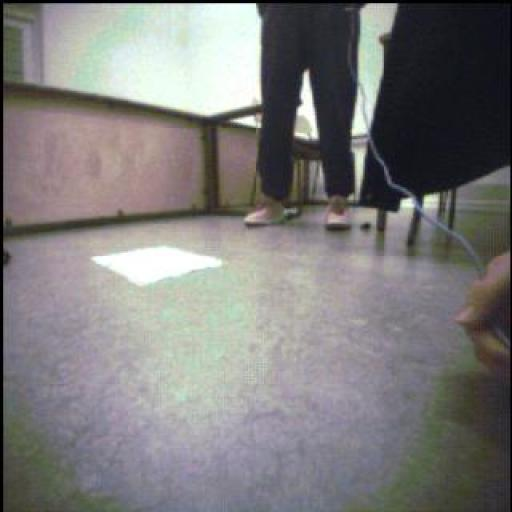Pad: (94, 251, 222, 289)
